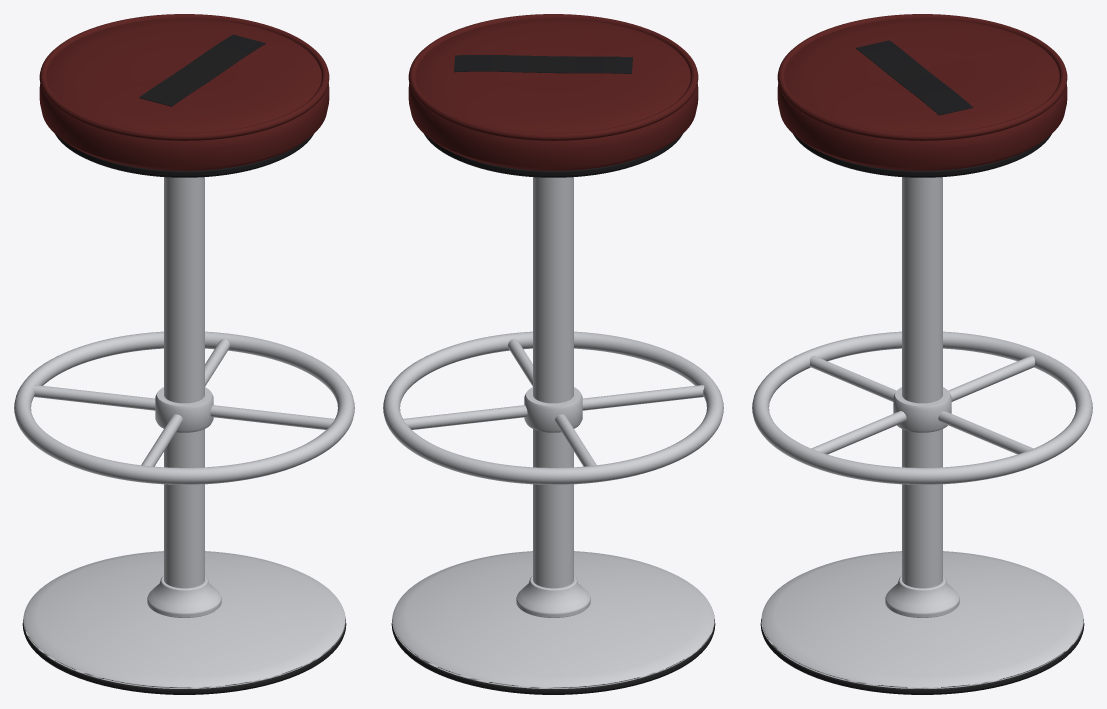
The model's file is stool_bar.glb.
The picture shows the model from 3 angles, left to right: view 1: azimuth 30°, elevation 25°; view 2: azimuth 150°, elevation 25°; view 3: azimuth 270°, elevation 25°; orthographic projection.
Visible parts, largest first — view 1: stool_bar; view 2: stool_bar; view 3: stool_bar.
Boxes of the visible parts, left/top/right/bottom form: stool_bar: left=14, top=14, right=354, bottom=694; stool_bar: left=383, top=14, right=723, bottom=694; stool_bar: left=752, top=14, right=1092, bottom=694.
Bounding box in the file's own units: 0.421 × 0.7604 × 0.421.
